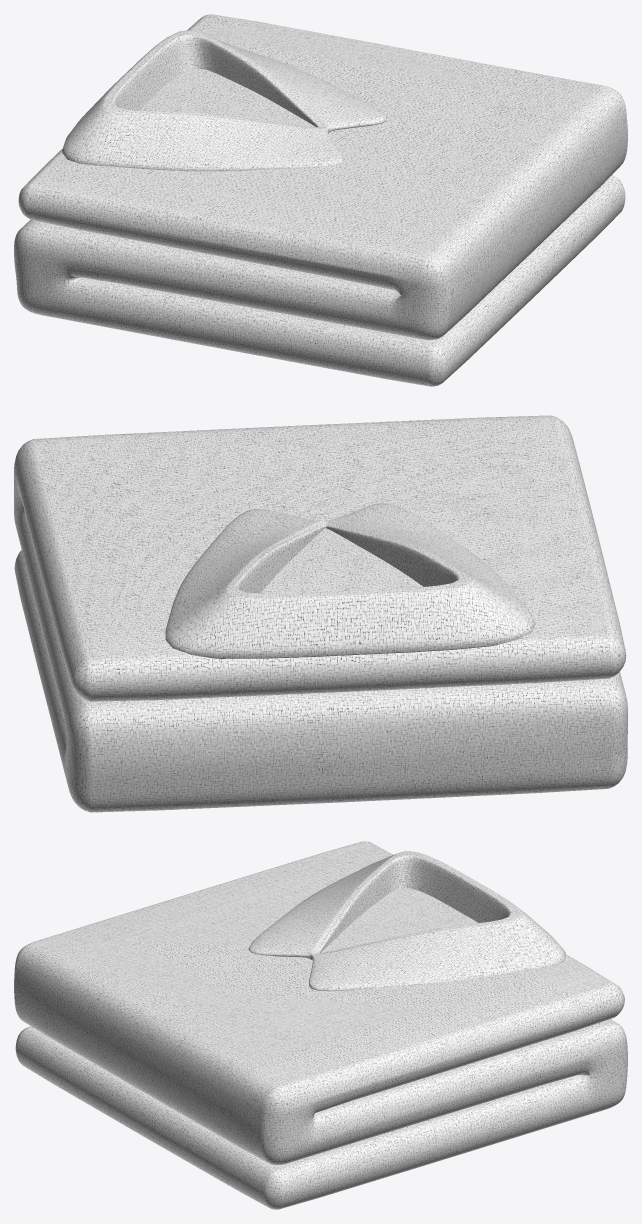
The model's file is Yshirts1.fbx.
The picture shows the model from 3 angles, top to bottom: view 1: azimuth 30°, elevation 25°; view 2: azimuth 150°, elevation 25°; view 3: azimuth 270°, elevation 25°; orthographic projection. The views are drawn at different scales.
Parts seen in each view (by area): view 1: pCube61; view 2: pCube61; view 3: pCube61.
Boxes of the visible parts, box(x1,y1,x2,y2) form: pCube61: box(14, 14, 627, 386); pCube61: box(14, 415, 627, 812); pCube61: box(14, 841, 627, 1209).
Bounding box in the file's own units: 0.0136 × 0.00391 × 0.0136.
Materials: 1 (1 with a texture image).
